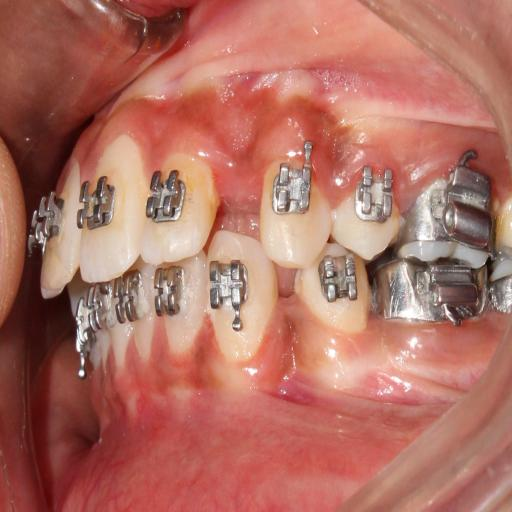correct_brace: (332, 161, 410, 264), (208, 254, 254, 342), (270, 140, 316, 218), (144, 166, 190, 228)
incorrect_brace: (136, 147, 221, 267), (352, 164, 397, 227)
